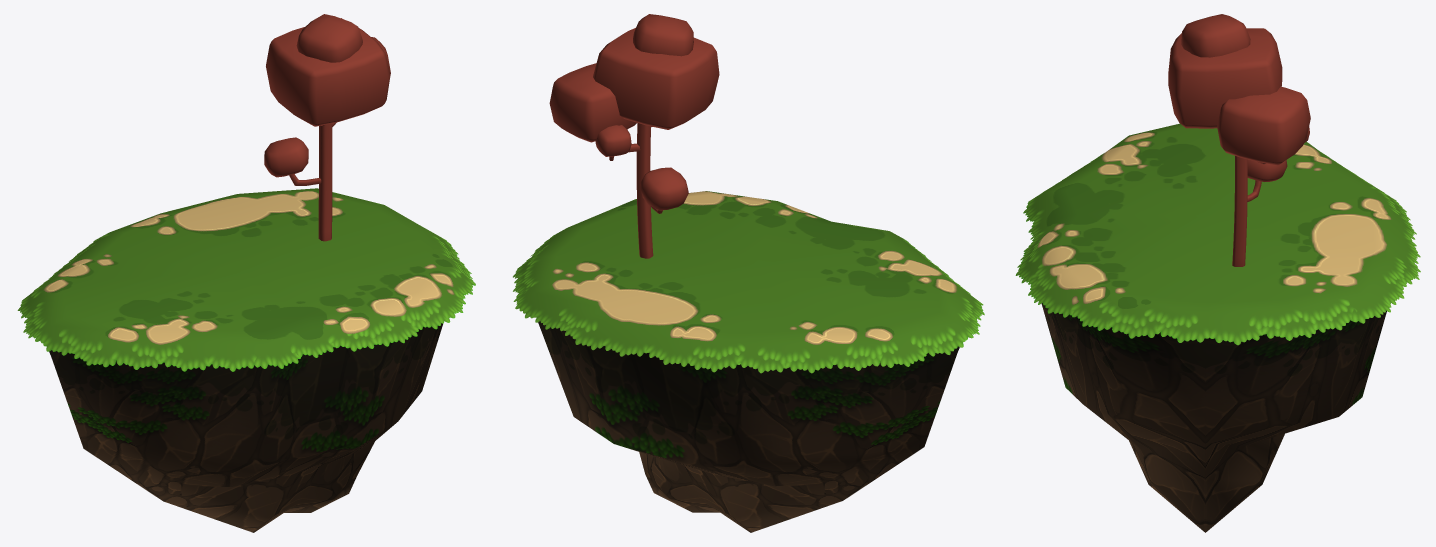
Rendered from oneisland_pink_tree.glb.
3 renders of one model, left to right at view 1: azimuth 30°, elevation 25°; view 2: azimuth 150°, elevation 25°; view 3: azimuth 270°, elevation 25°, orthographic. The views are drawn at different scales.
Parts seen in each view (by area): view 1: Object012; view 2: Object012; view 3: Object012.
Boxes of the visible parts, x1=… form: Object012: x1=17, y1=14, x2=475, y2=532; Object012: x1=513, y1=14, x2=984, y2=532; Object012: x1=1015, y1=14, x2=1420, y2=532.
Bounding box in the file's own units: 8.56 × 9.35 × 6.58.
2 materials, 2 textured.
